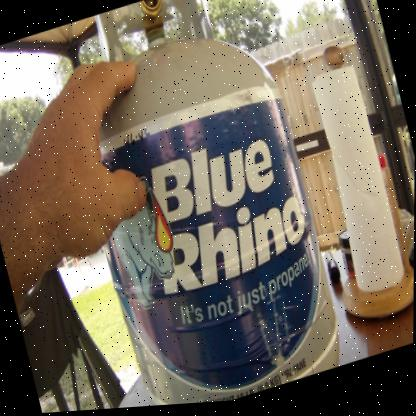gas-tank: (41, 0, 360, 413)
